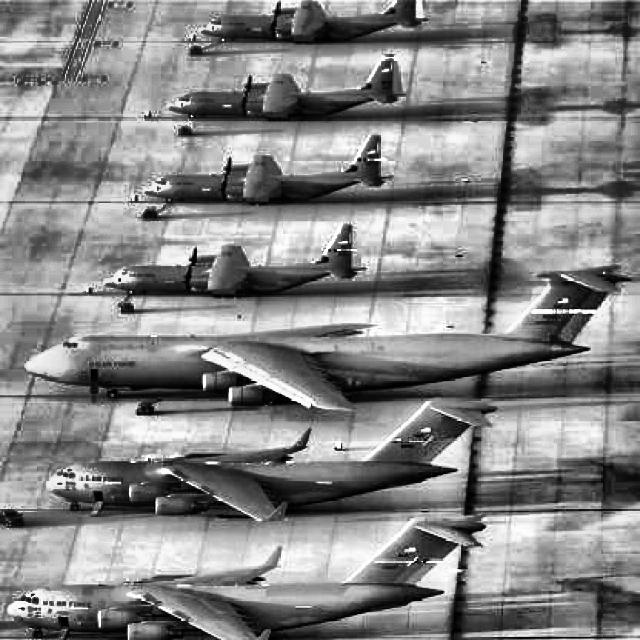C130: (103, 224, 366, 299), (143, 134, 394, 206), (167, 53, 408, 122), (198, 0, 428, 45)
C17: (7, 512, 488, 640), (45, 397, 502, 521)
C5: (23, 265, 634, 412)
